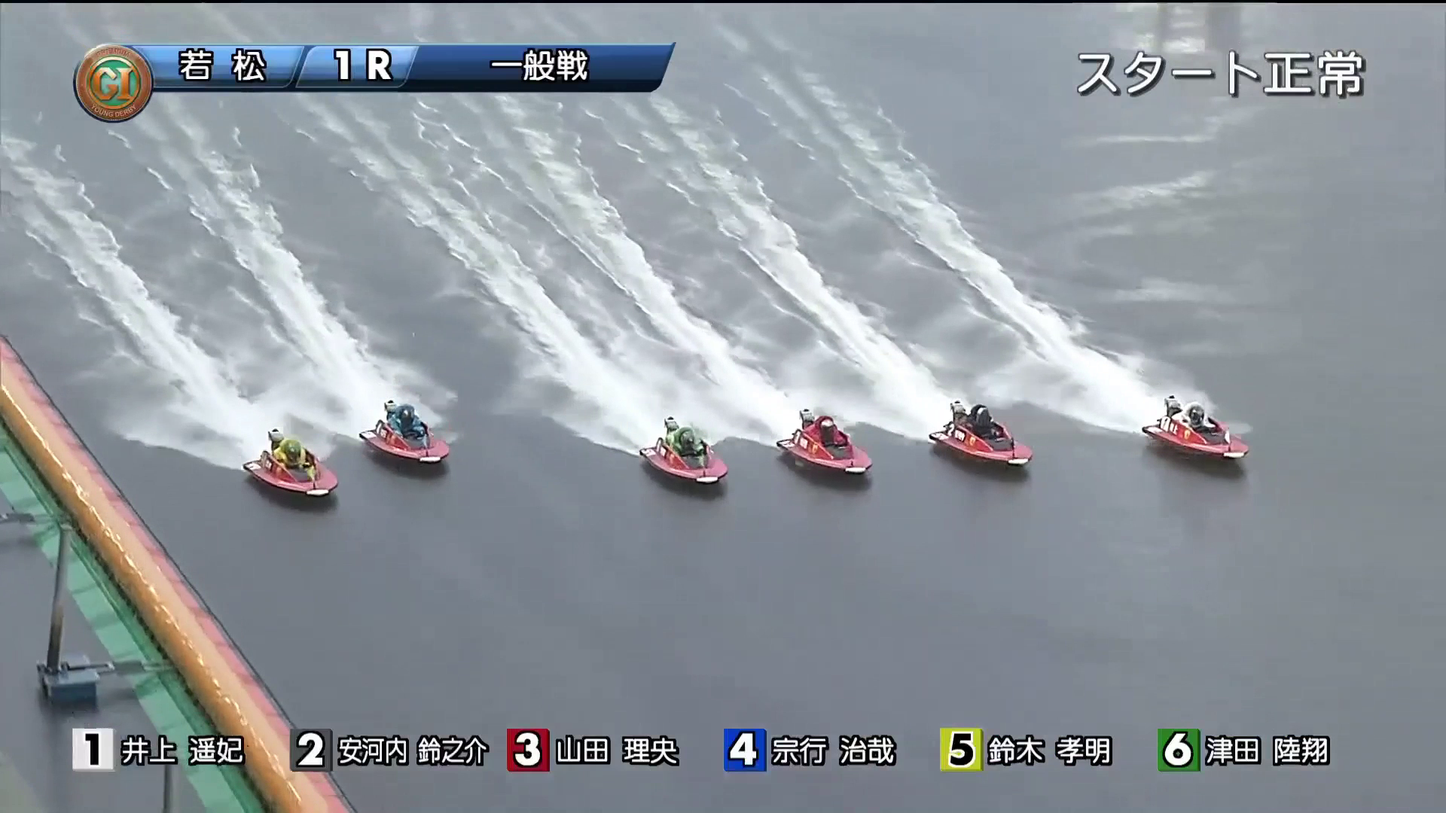１号艇: (1154, 388, 1251, 432)
２号艇: (943, 398, 1041, 441)
３号艇: (781, 425, 883, 467)
４号艇: (631, 424, 739, 472)
５号艇: (346, 396, 467, 451)
６号艇: (260, 444, 359, 501)
